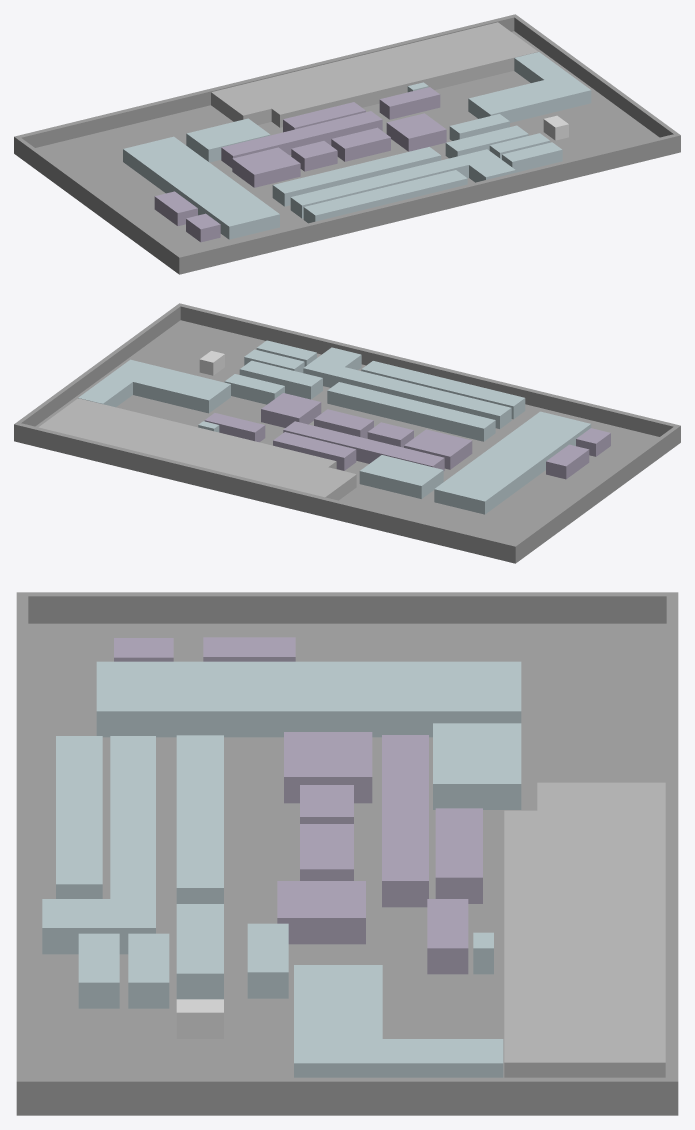
File: 3D Map For AR.fbx
3 views of the same model, one above another, from view 1: azimuth 30°, elevation 25°; view 2: azimuth 150°, elevation 25°; view 3: azimuth 270°, elevation 25° (orthographic). The views are drawn at different scales.
Parts seen in each view (by area): view 1: pPlane1, pCube13, pCube19, pCube12, pCube15, pCube9, pCube16, pCube5, pCube1, pCube18, pCube8, pCube4 (+10 smaller); view 2: pPlane1, pCube13, pCube19, pCube12, pCube15, pCube9, pCube18, pCube5, pCube16, pCube10, pCube8, pCube1 (+10 smaller); view 3: pPlane1, pCube13, pCube19, pCube12, pCube15, pCube5, pCube9, pCube18, pCube16, pCube8, pCube1, pCube10 (+11 smaller).
Boxes of the visible parts, x1,y1,x2,y2 form: pPlane1: (14,14,680,274); pCube13: (211,22,537,127); pCube19: (123,136,279,239); pCube12: (468,52,591,122); pCube15: (290,149,515,218); pCube9: (272,147,441,206); pCube16: (303,170,467,223); pCube5: (221,111,382,168); pCube1: (232,147,300,187); pCube18: (186,118,270,162); pCube8: (386,113,446,151); pCube4: (331,127,390,161); pPlane1: (14,303,680,563); pCube13: (38,398,356,500); pCube19: (434,411,591,514); pCube12: (78,359,230,413); pCube15: (303,347,511,428); pCube9: (327,382,495,441); pCube18: (359,455,443,498); pCube5: (283,421,444,470); pCube16: (361,361,525,419); pCube10: (239,360,322,399); pCube8: (261,393,321,427); pCube1: (404,429,472,469); pPlane1: (16,592,678,1115); pCube13: (504,782,665,1077); pCube19: (96,661,521,737); pCube12: (294,965,503,1077); pCube15: (42,736,155,954); pCube5: (382,735,428,907); pCube9: (176,735,223,903); pCube18: (433,723,521,809); pCube16: (56,736,102,898); pCube8: (277,881,365,944); pCube1: (284,732,372,803); pCube10: (176,904,223,999).
Bounding box in the file's own units: 114 × 3.71 × 65.32.
